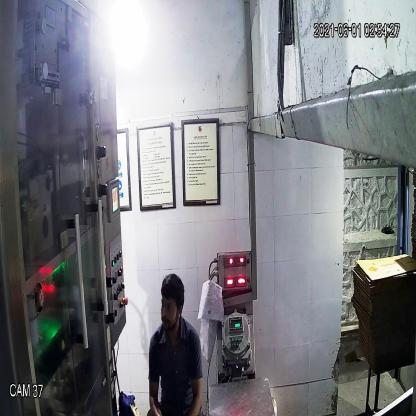no_goggles: (156, 294, 180, 317)
